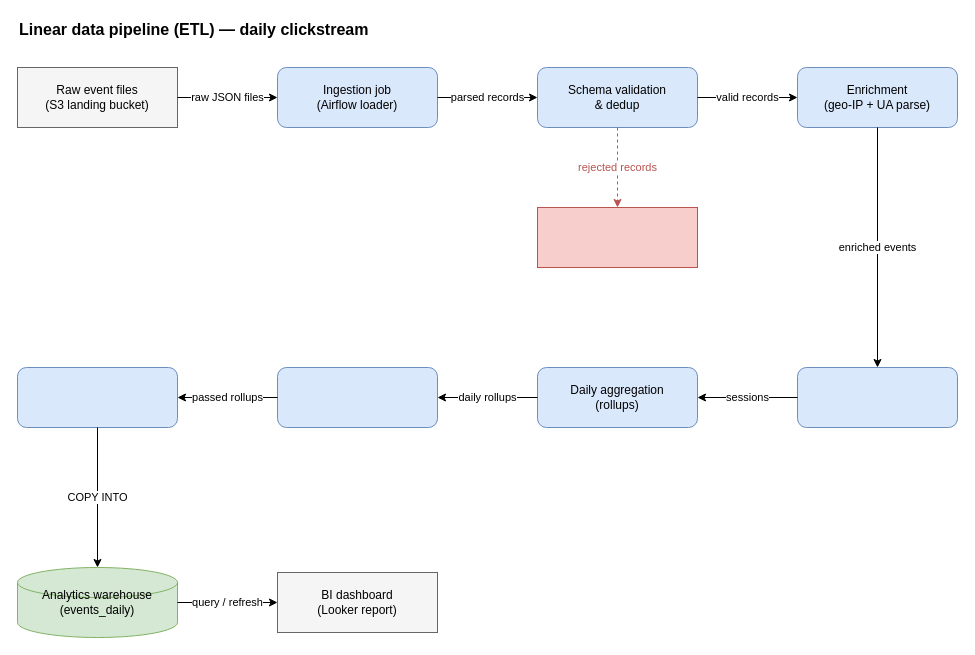
The diagram is 975 pixels wide and 655 high, and some of its shapes have lost their labels. The centre of each missing label's shape, as x and y in pixels:
"Data-quality check (row-count / null)" goes at point (357, 397).
"Dead-letter / quarantine bucket" goes at point (617, 237).
"Sessionization (group into sessions)" goes at point (877, 397).
"Warehouse load (Snowflake COPY)" goes at point (97, 397).
